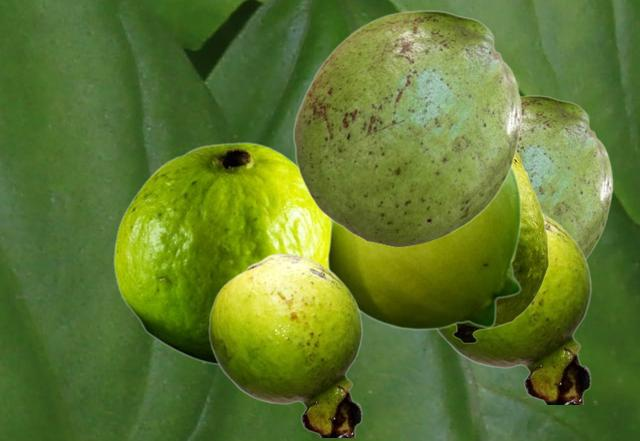guava: (292, 10, 521, 246), (113, 142, 328, 364), (326, 167, 521, 329), (436, 212, 591, 403), (208, 253, 362, 436), (452, 151, 548, 343), (518, 95, 612, 259)
